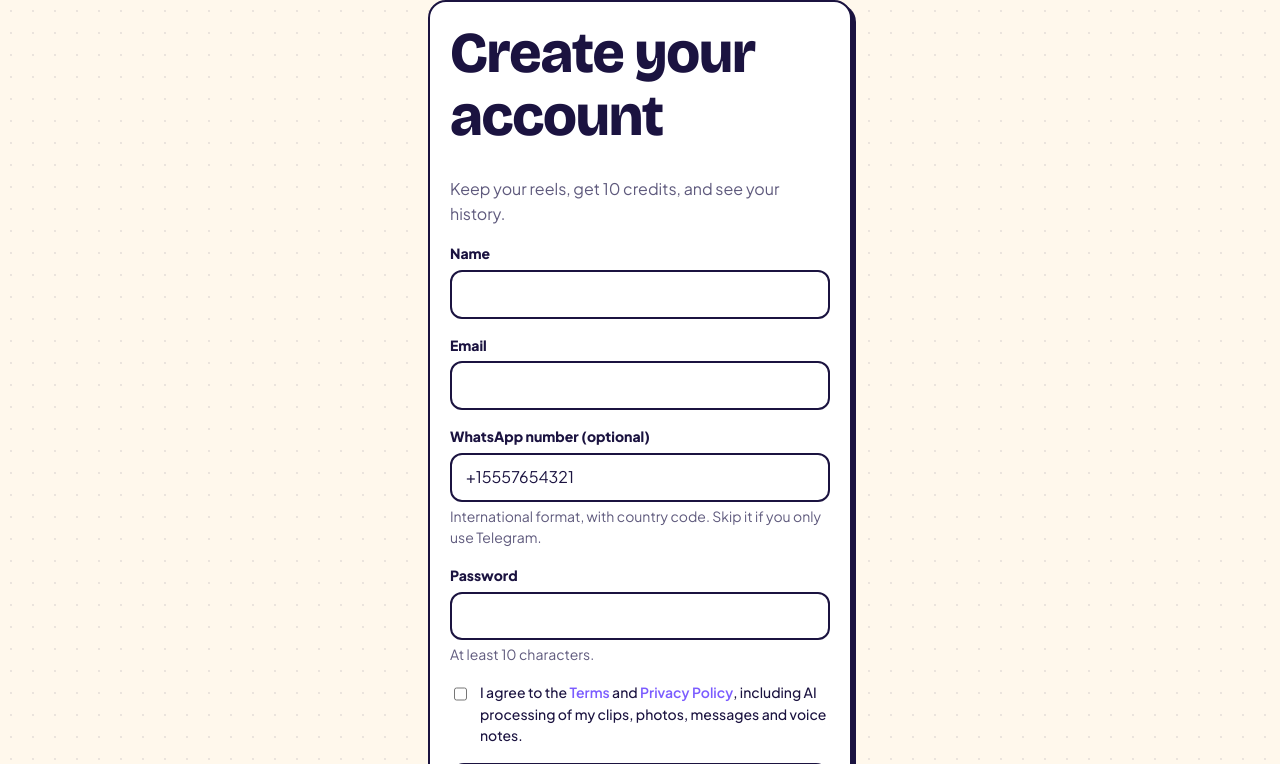
Test: Register page › submits the form and shows the dev verification link
Expected: the field labelled "WhatsApp number (optional)" holds "+15557654321", [450, 453, 830, 502]
In the field labelled "Name": (640, 294) [450, 270, 830, 319], type "Asha"
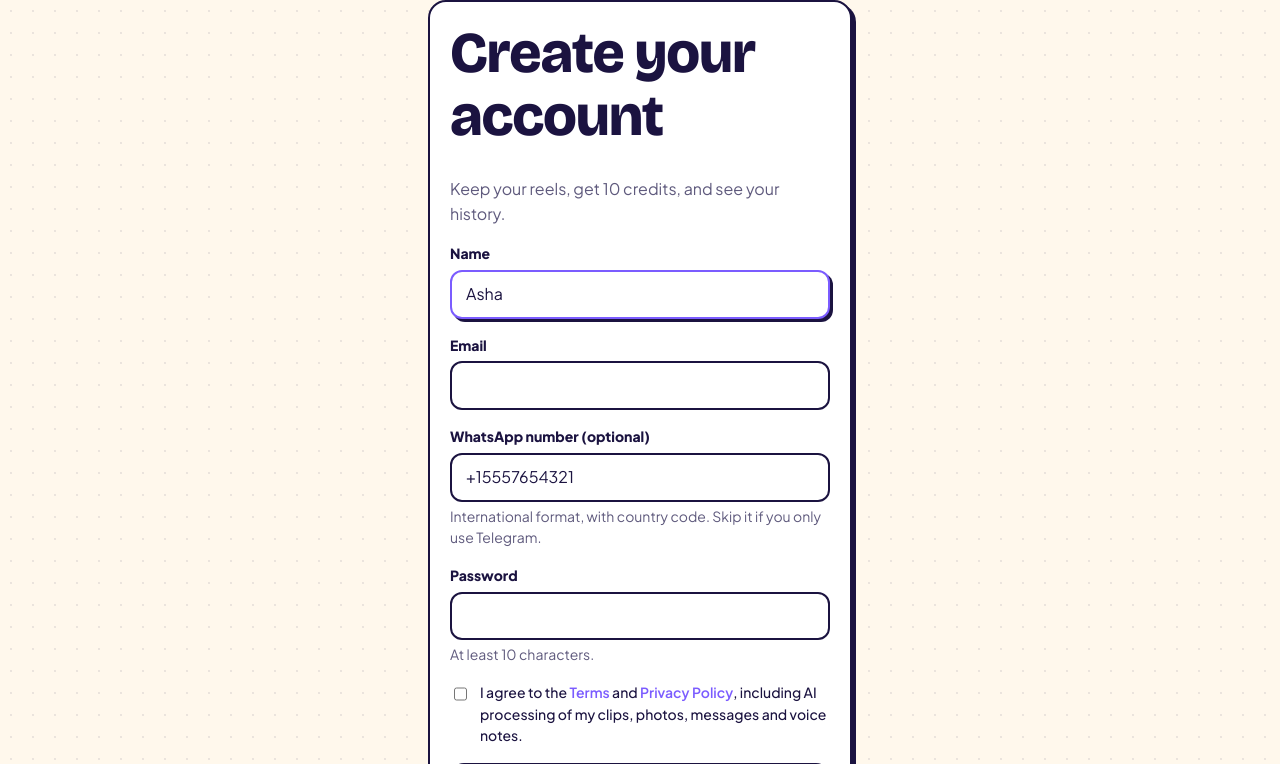
In the field labelled "Email": (640, 386) [450, 361, 830, 410], type "asha@x.test"
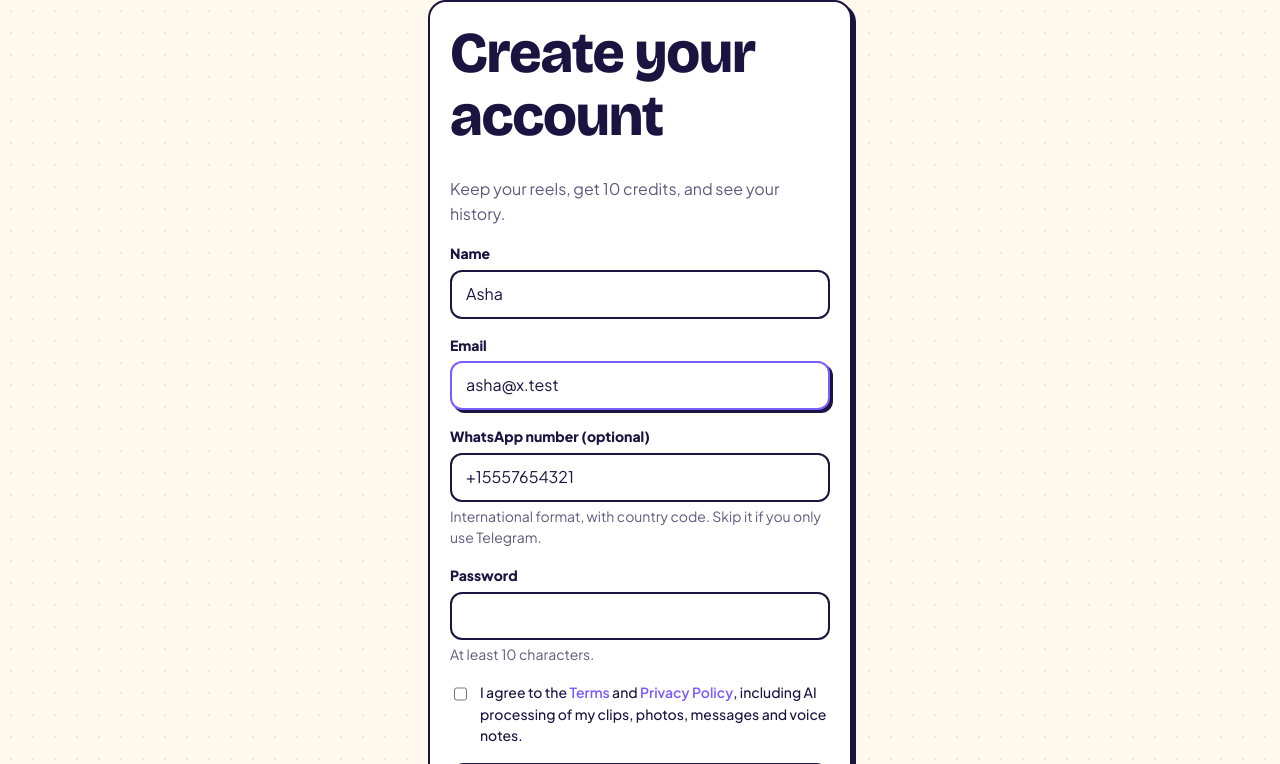
In the password field labelled "Password": (640, 616) [450, 592, 830, 640], type "correct horse battery"
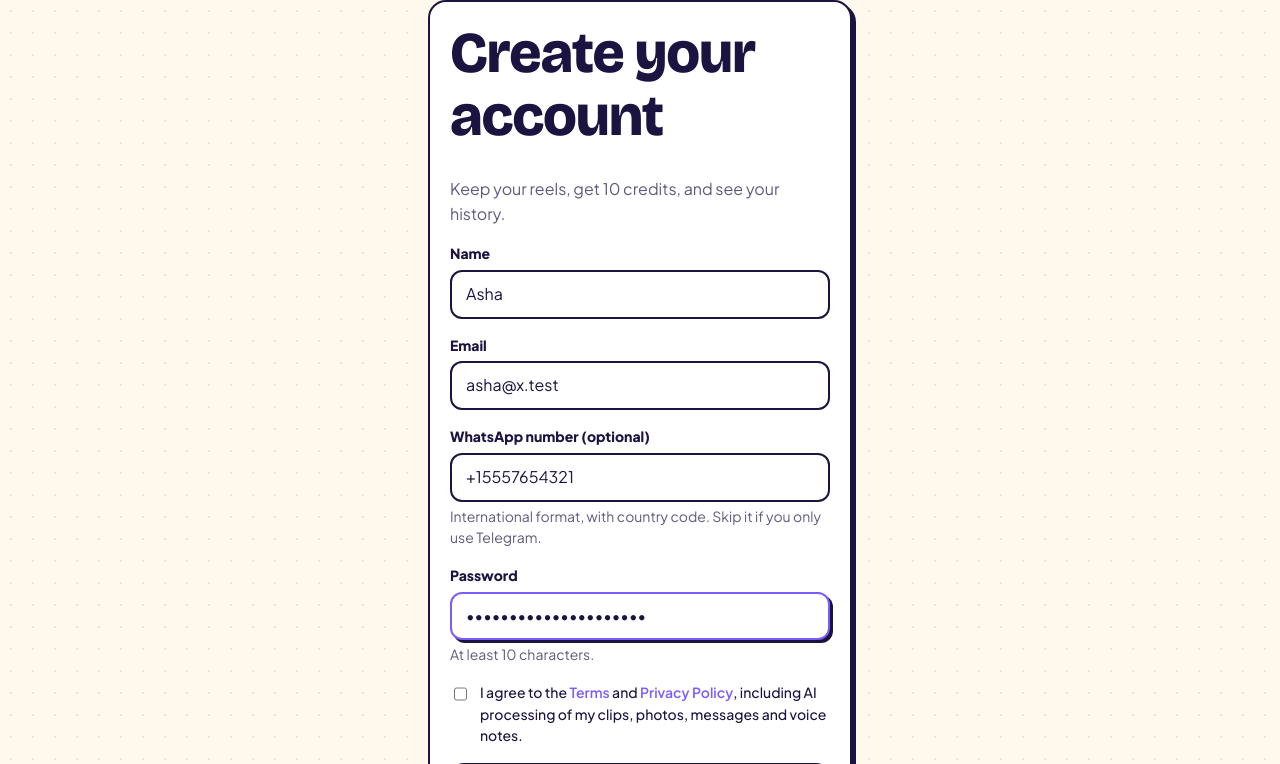
Click the checkbox: click(460, 694) [454, 684, 467, 704]
(page scrolled)
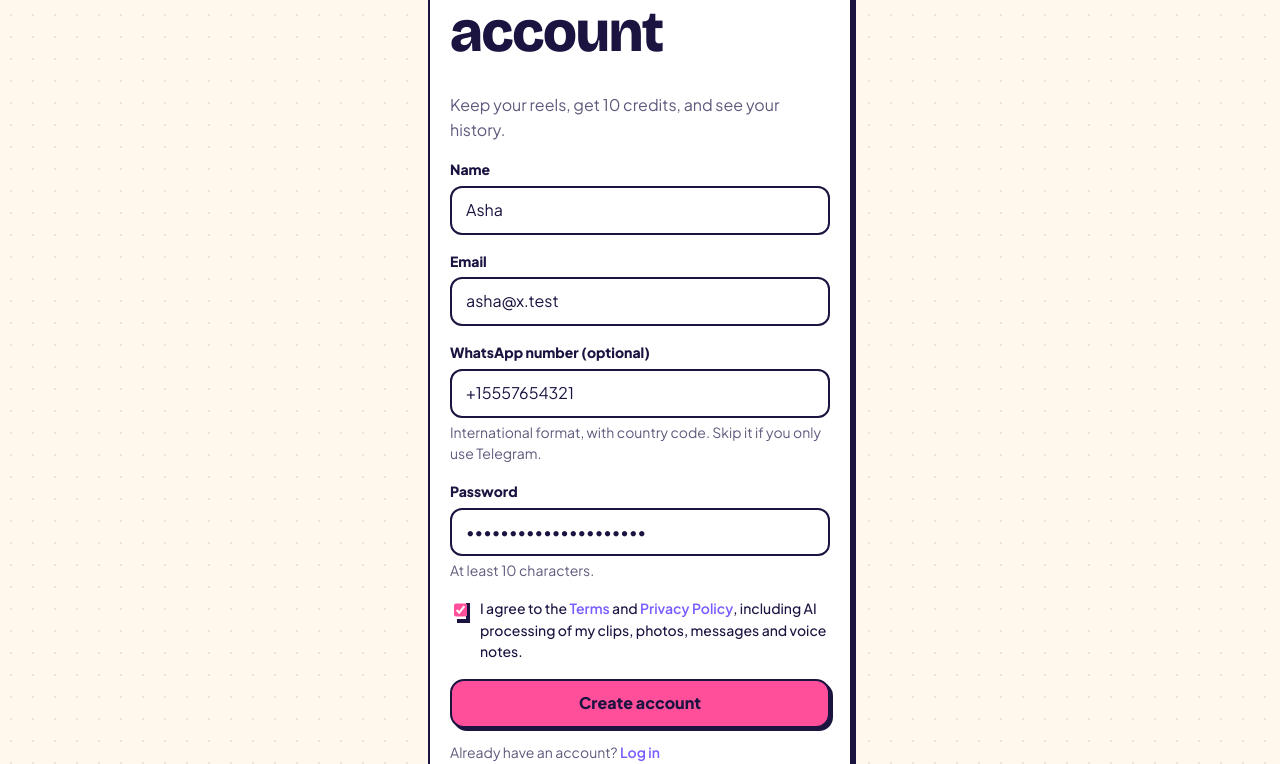
Click the button "Create account": click(640, 704) [450, 679, 830, 728]
(page scrolled)
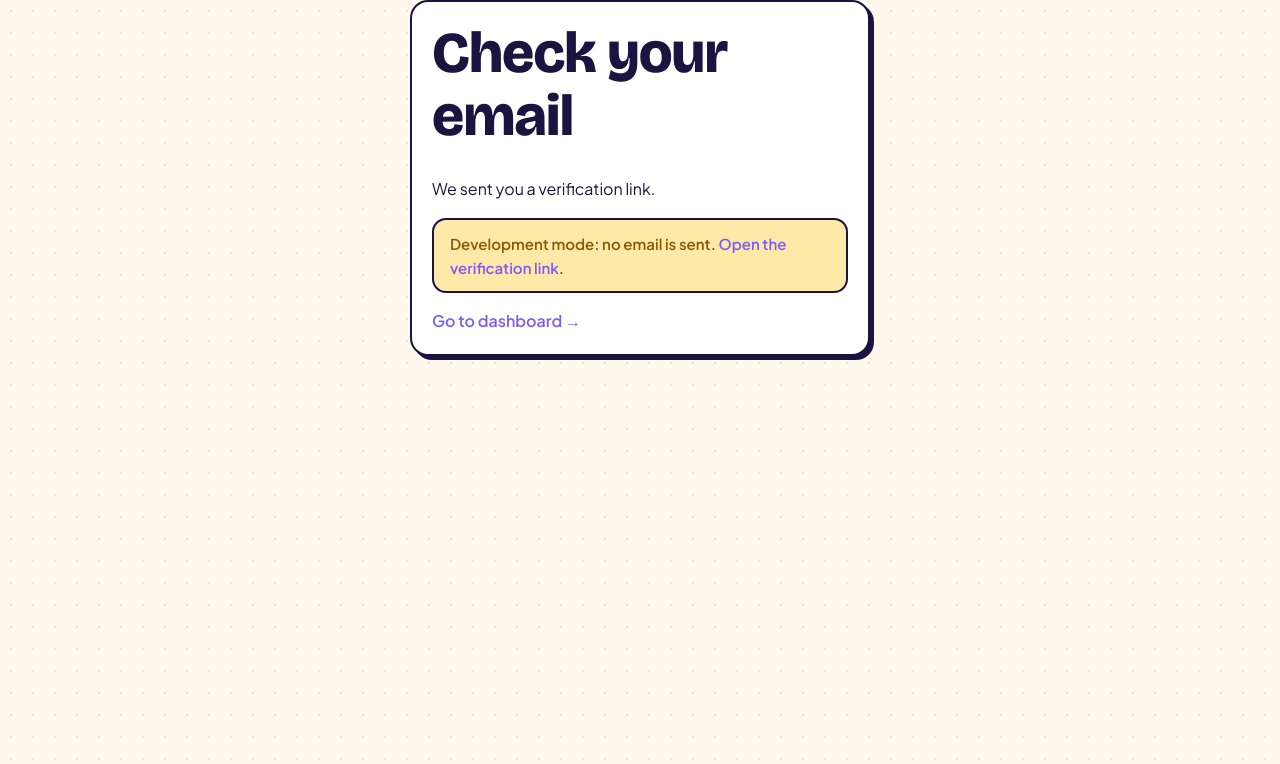
Expected: the heading "Check your email" is shown, [432, 18, 728, 151]
